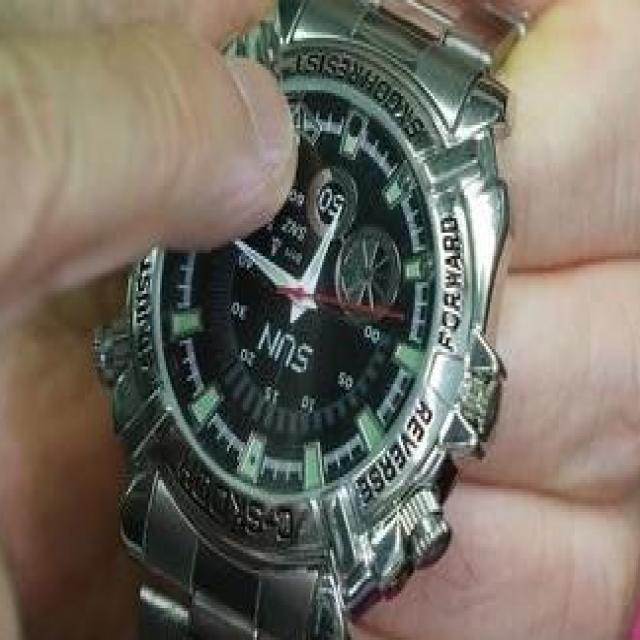hidden camera: (344, 115, 367, 142)
